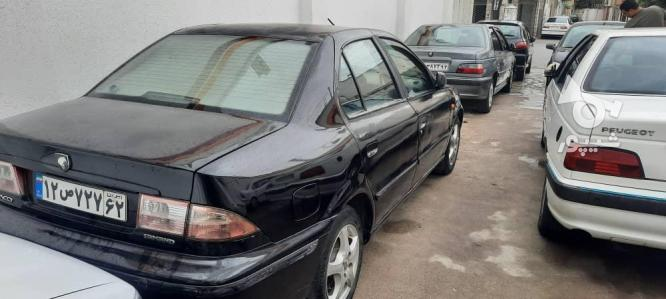car: (32, 172, 130, 220), (425, 61, 450, 70)
